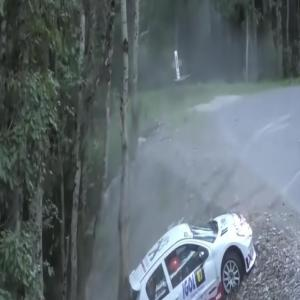superficial: (120, 191, 260, 300)
